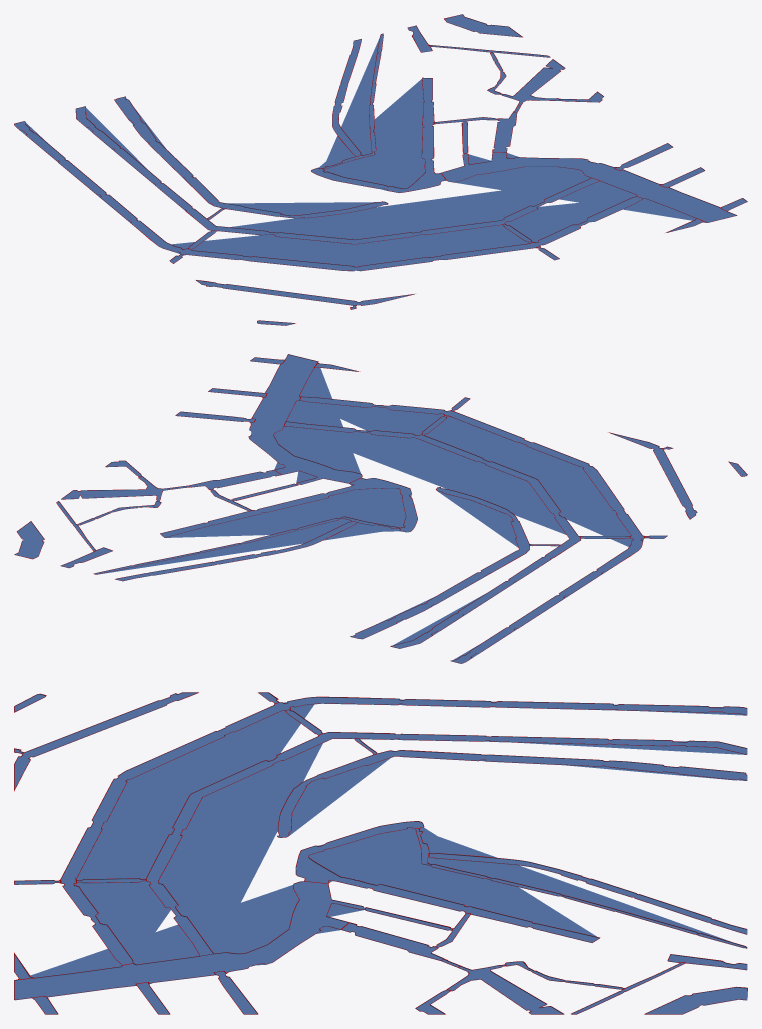
File: waterDualExtrude.fbx
The picture shows the model from 3 angles, top to bottom: view 1: azimuth 30°, elevation 25°; view 2: azimuth 150°, elevation 25°; view 3: azimuth 270°, elevation 25°; orthographic projection. The views are drawn at different scales.
Visible parts, largest first — view 1: attribpromote1; view 2: attribpromote1; view 3: attribpromote1.
Boxes of the visible parts, x1,y1,x2,y2 form: attribpromote1: [14, 14, 747, 325]; attribpromote1: [14, 354, 747, 663]; attribpromote1: [14, 692, 747, 1014].
Size of the model in its own units: 228 by 0.207 by 219.
